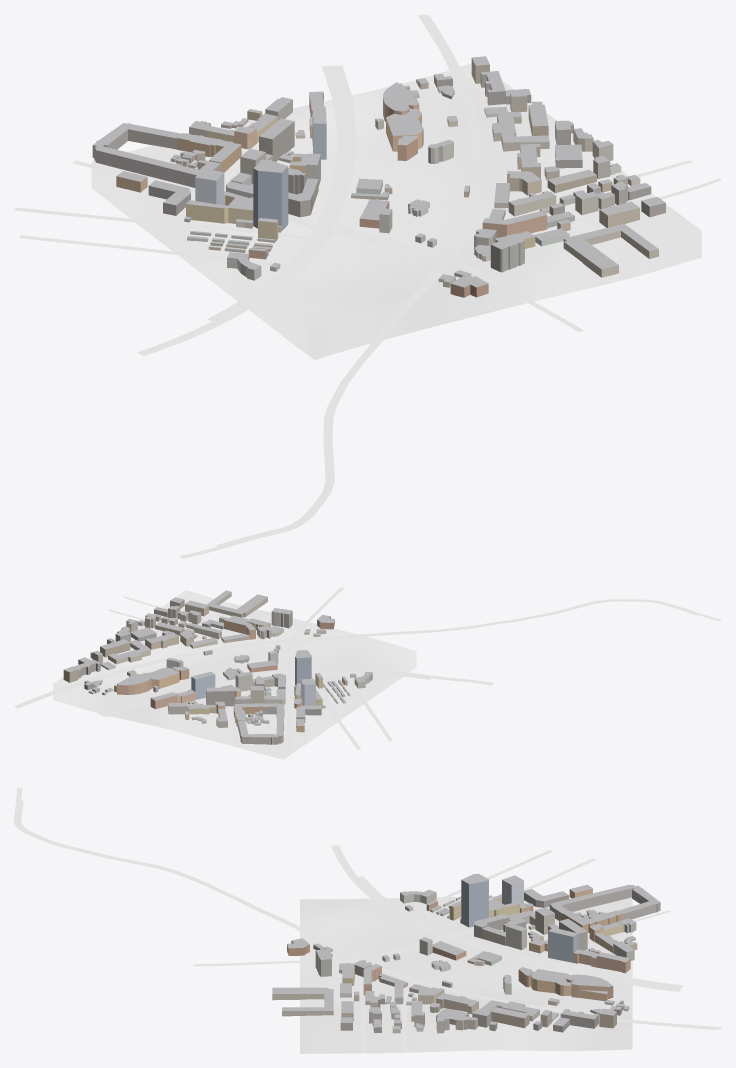
3 renders of one model, top to bottom at view 1: azimuth 30°, elevation 25°; view 2: azimuth 150°, elevation 25°; view 3: azimuth 270°, elevation 25°, orthographic. The views are drawn at different scales.
Visible parts, largest first — view 1: t1_1_0; view 2: t1_1_0; view 3: t1_1_0.
Part boxes in pixels (x1,y1,x2,y2): t1_1_0: (14,14,721,558); t1_1_0: (14,587,721,759); t1_1_0: (14,788,721,1053).
Size of the model in its own units: 1020 by 114 by 1090.
